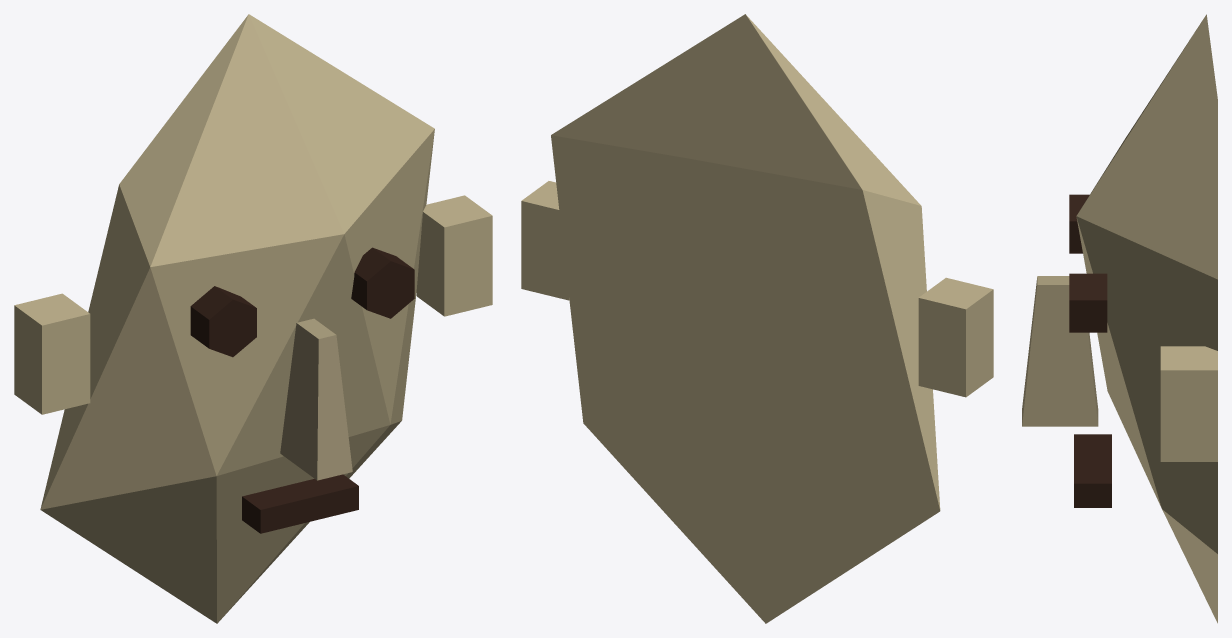
Rendered from wall-mask-46.glb.
3 renders of one model, left to right at view 1: azimuth 30°, elevation 25°; view 2: azimuth 150°, elevation 25°; view 3: azimuth 270°, elevation 25°, orthographic. The views are drawn at different scales.
Visible parts, largest first — view 1: wall_mask_46; view 2: wall_mask_46; view 3: wall_mask_46.
Boxes of the visible parts, x1,y1,x2,y2 form: wall_mask_46: (14, 14, 492, 623); wall_mask_46: (521, 14, 993, 623); wall_mask_46: (1022, 14, 1217, 623).
Bounding box in the file's own units: 0.2803 × 0.3611 × 0.1029.
